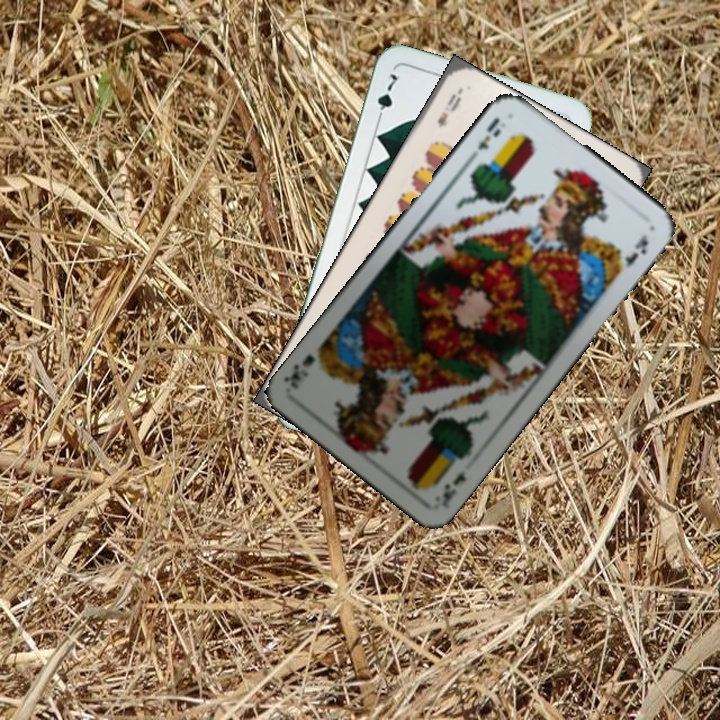E9: (433, 86, 464, 131)
EK: (437, 466, 469, 511), (473, 113, 504, 154)
G7: (373, 69, 401, 125)
